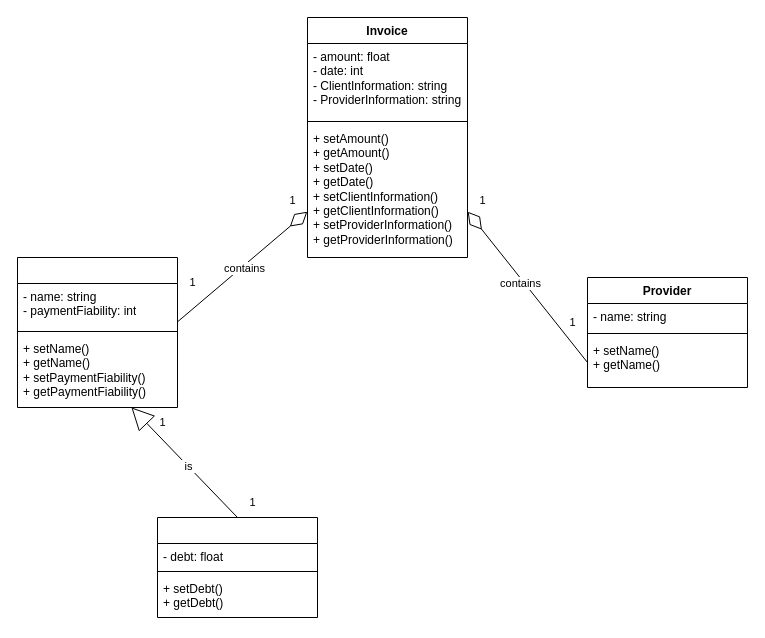
This 765x638 diagram has some shape labels left out. Each missing label, with the box of its shape:
Client: (16, 256, 178, 408)
Moroso: (156, 516, 318, 618)
